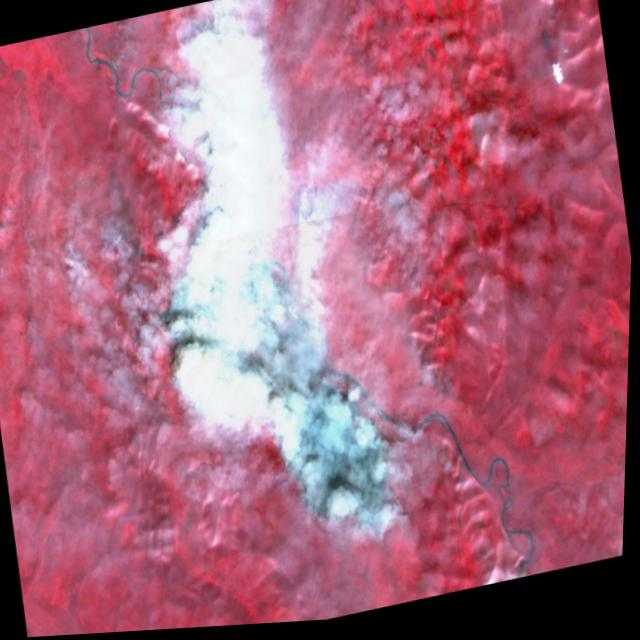fire: (160, 300, 409, 586)
